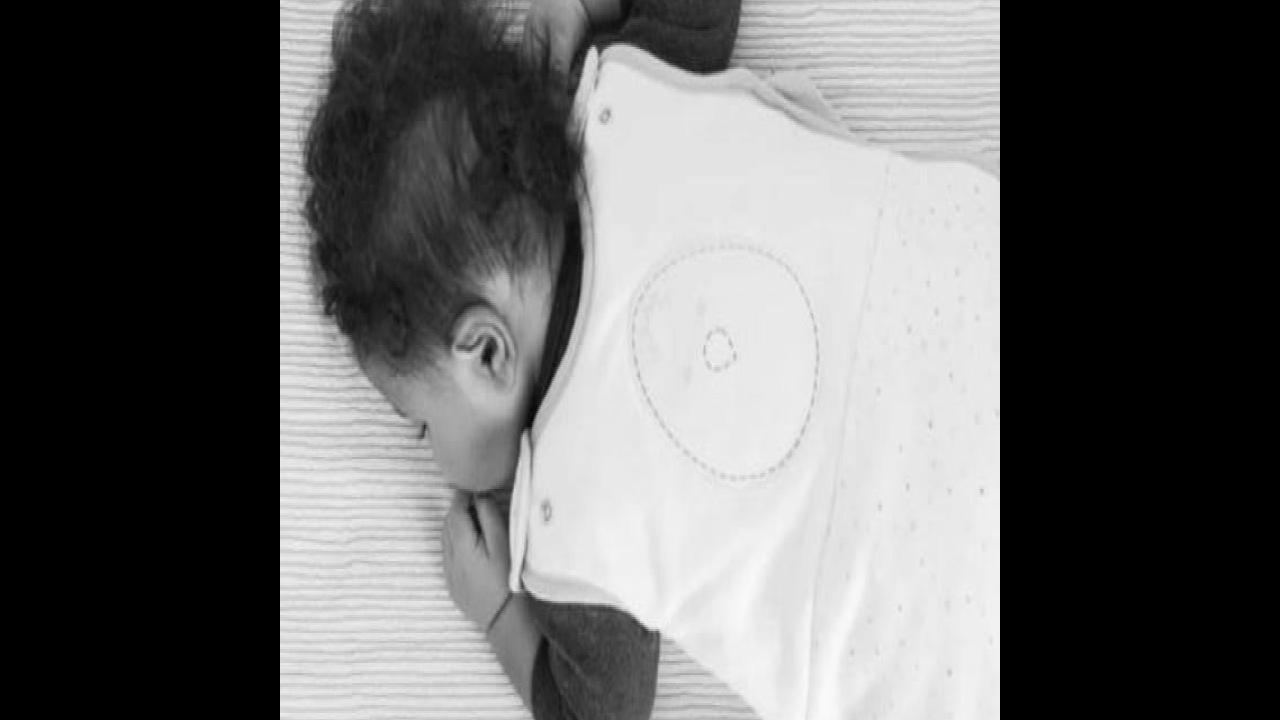hand: (428, 490, 519, 625), (510, 0, 599, 106)
